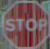Stop: (1, 1, 47, 48)
